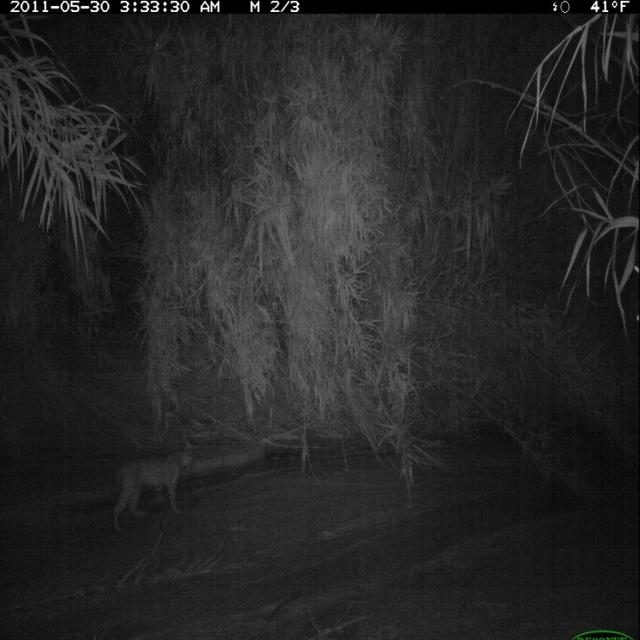bobcat: (110, 443, 202, 535)
